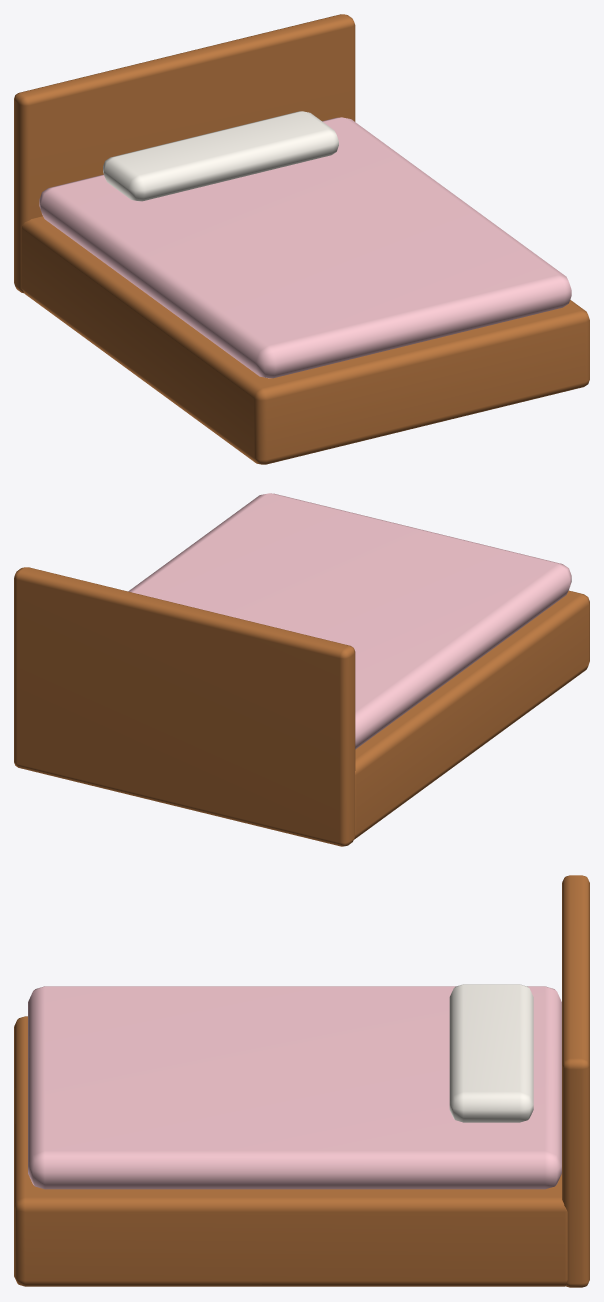
The model's file is bed.glb.
The picture shows the model from 3 angles, top to bottom: view 1: azimuth 30°, elevation 25°; view 2: azimuth 150°, elevation 25°; view 3: azimuth 270°, elevation 25°; orthographic projection. The views are drawn at different scales.
Parts seen in each view (by area): view 1: Mattress, Frame, Head, Pillow; view 2: Head, Mattress, Frame; view 3: Mattress, Frame, Pillow, Head.
Part boxes in pixels (x1,y1,x2,y2): Mattress: (39, 117, 571, 378); Frame: (21, 216, 589, 464); Head: (14, 14, 355, 293); Pillow: (103, 111, 338, 201); Head: (14, 567, 355, 846); Mattress: (128, 493, 571, 749); Frame: (354, 590, 589, 839); Mattress: (28, 986, 561, 1189); Frame: (14, 1016, 567, 1286); Pillow: (449, 984, 533, 1122); Head: (562, 875, 589, 1287).
Bounding box in the file's own units: 1.6 × 0.9 × 2.05.
